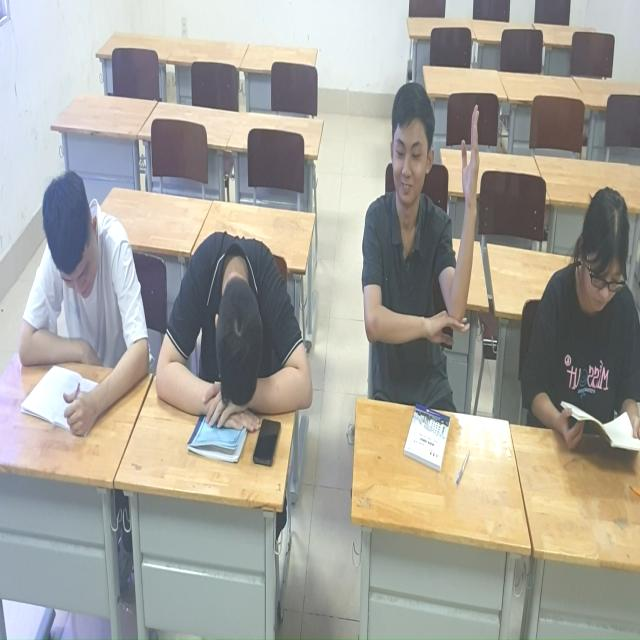raise_hand: (357, 77, 488, 399)
read: (8, 126, 158, 431), (519, 178, 640, 476)
sleep: (154, 212, 314, 442)
